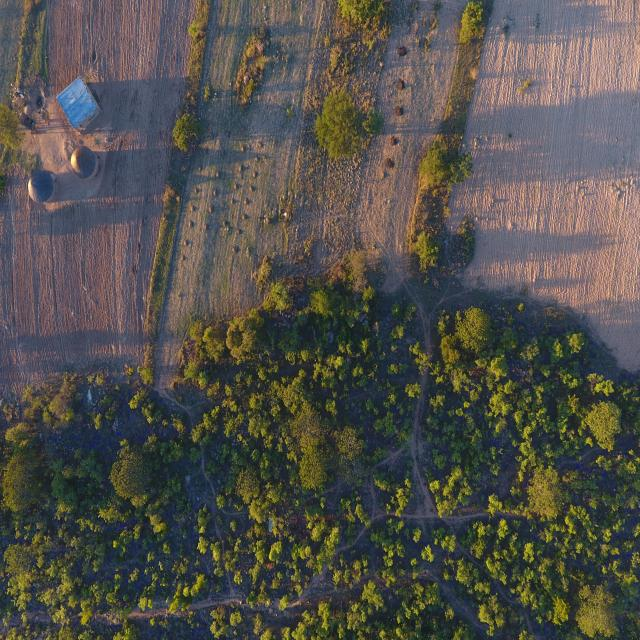boundaries: (136, 17, 215, 355), (405, 20, 491, 263)
